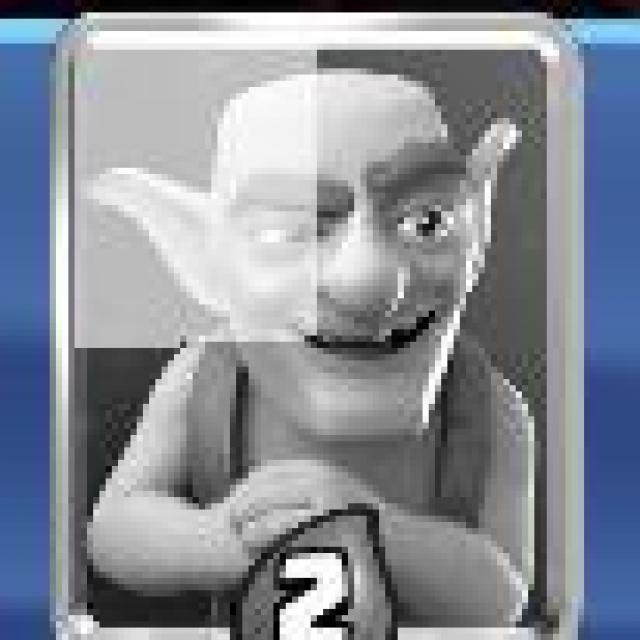Goblins: (52, 15, 585, 640)
